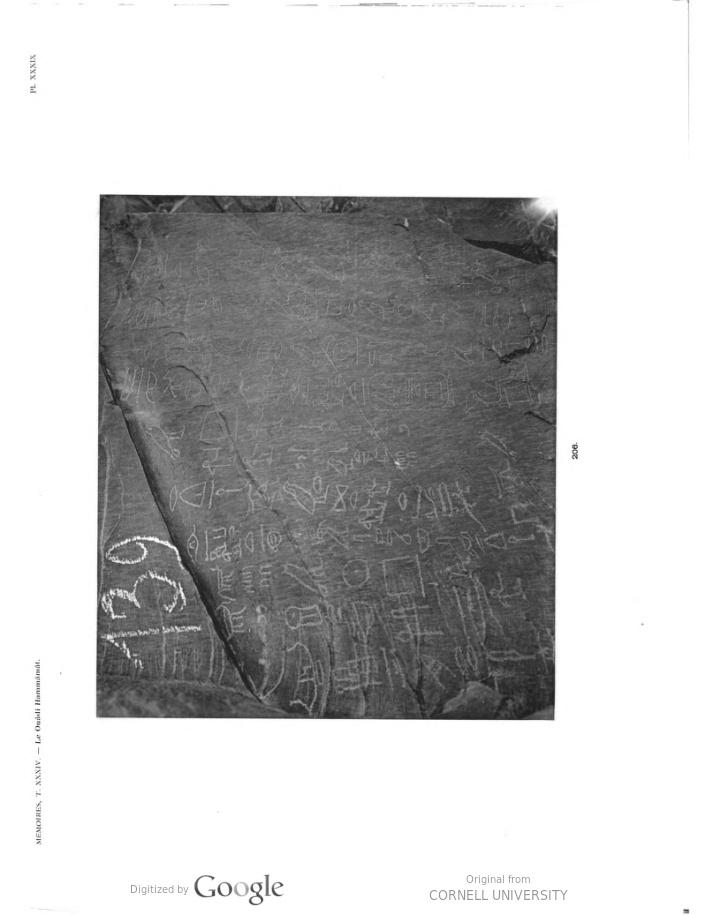circle: (367, 355, 477, 418)
